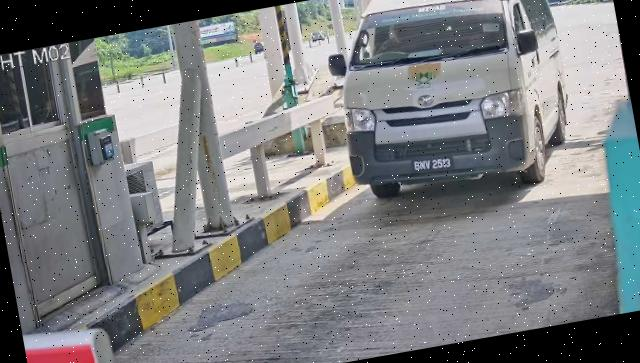License_Plate: (410, 150, 457, 179)
van: (320, 1, 582, 216)
